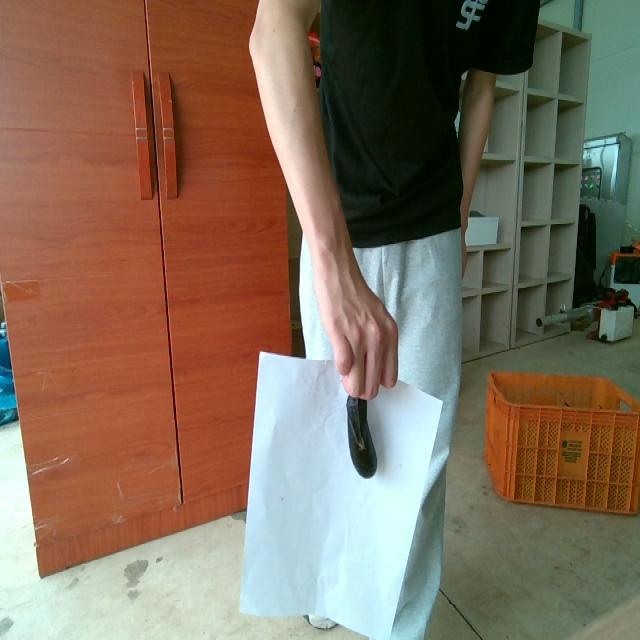Egg plant: (346, 396, 376, 477)
